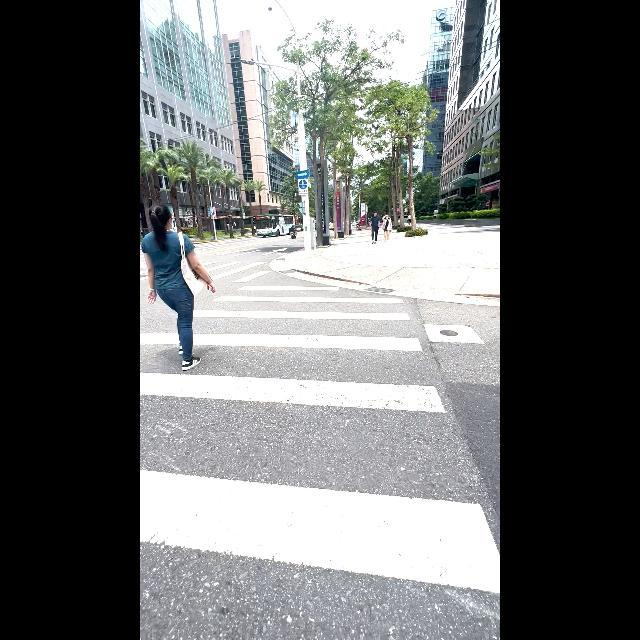sidewalk: (141, 284, 499, 594)
